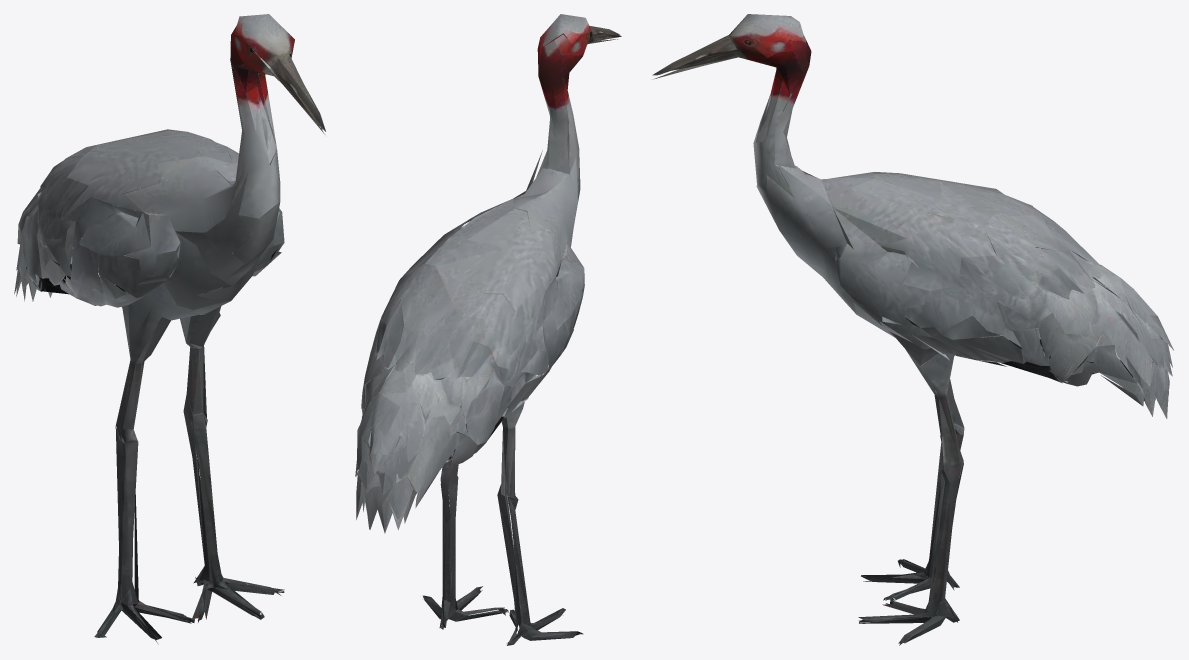
The model's file is sarus-crane.glb.
The picture shows the model from 3 angles, left to right: view 1: azimuth 30°, elevation 25°; view 2: azimuth 150°, elevation 25°; view 3: azimuth 270°, elevation 25°; orthographic projection. The views are drawn at different scales.
Visible parts, largest first — view 1: output_unwrapped; view 2: output_unwrapped; view 3: output_unwrapped.
Part boxes in pixels (left/top/right/bottom): output_unwrapped: left=14, top=14, right=325, bottom=644; output_unwrapped: left=355, top=14, right=621, bottom=645; output_unwrapped: left=652, top=14, right=1173, bottom=645.
Size of the model in its own units: 0.4926 by 1.61 by 1.28.
Materials: 1 (1 with a texture image).
